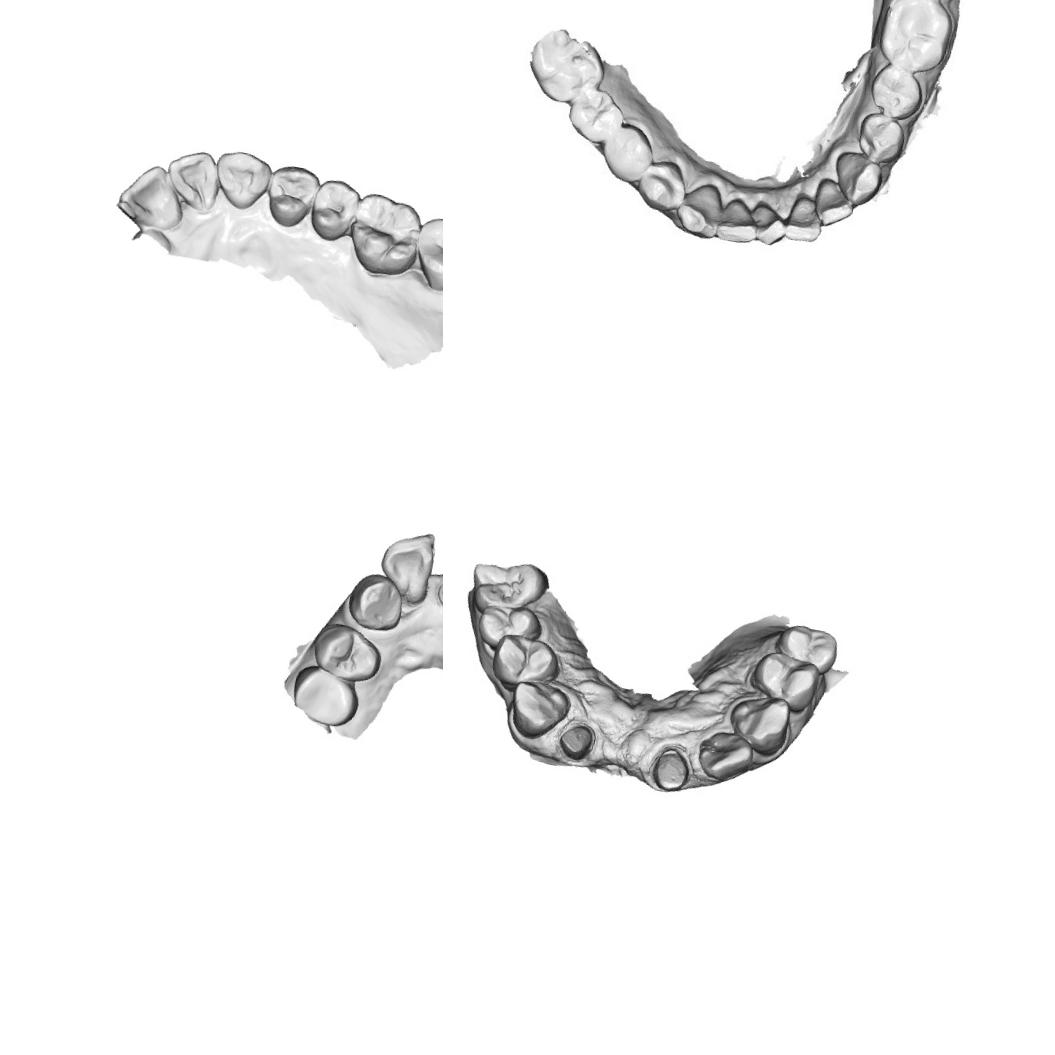canine: (724, 689, 794, 758), (503, 677, 572, 744), (209, 146, 275, 214), (343, 568, 408, 634), (672, 178, 722, 234), (834, 152, 886, 202)
crown: (644, 738, 696, 798), (554, 718, 598, 761)
implant_minus: (432, 572, 443, 618)
incisor: (112, 157, 191, 234), (373, 524, 439, 606), (160, 144, 226, 214), (690, 725, 756, 786), (713, 194, 760, 246), (780, 192, 826, 241), (814, 176, 856, 224), (746, 201, 786, 246)
molar: (342, 187, 430, 282), (520, 23, 606, 112), (878, 0, 953, 75), (466, 554, 550, 618), (745, 646, 822, 714), (473, 598, 545, 655), (770, 620, 841, 676), (566, 84, 623, 143), (408, 212, 443, 297)
premolar: (285, 660, 364, 730), (307, 618, 386, 686), (488, 630, 562, 694), (260, 161, 322, 232), (303, 174, 364, 246), (599, 124, 656, 184), (634, 160, 688, 212), (856, 112, 906, 167), (871, 64, 922, 116)
